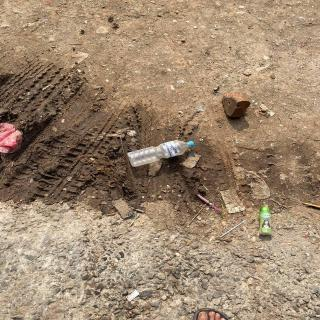Plastic-bottle: (125, 138, 199, 172)
